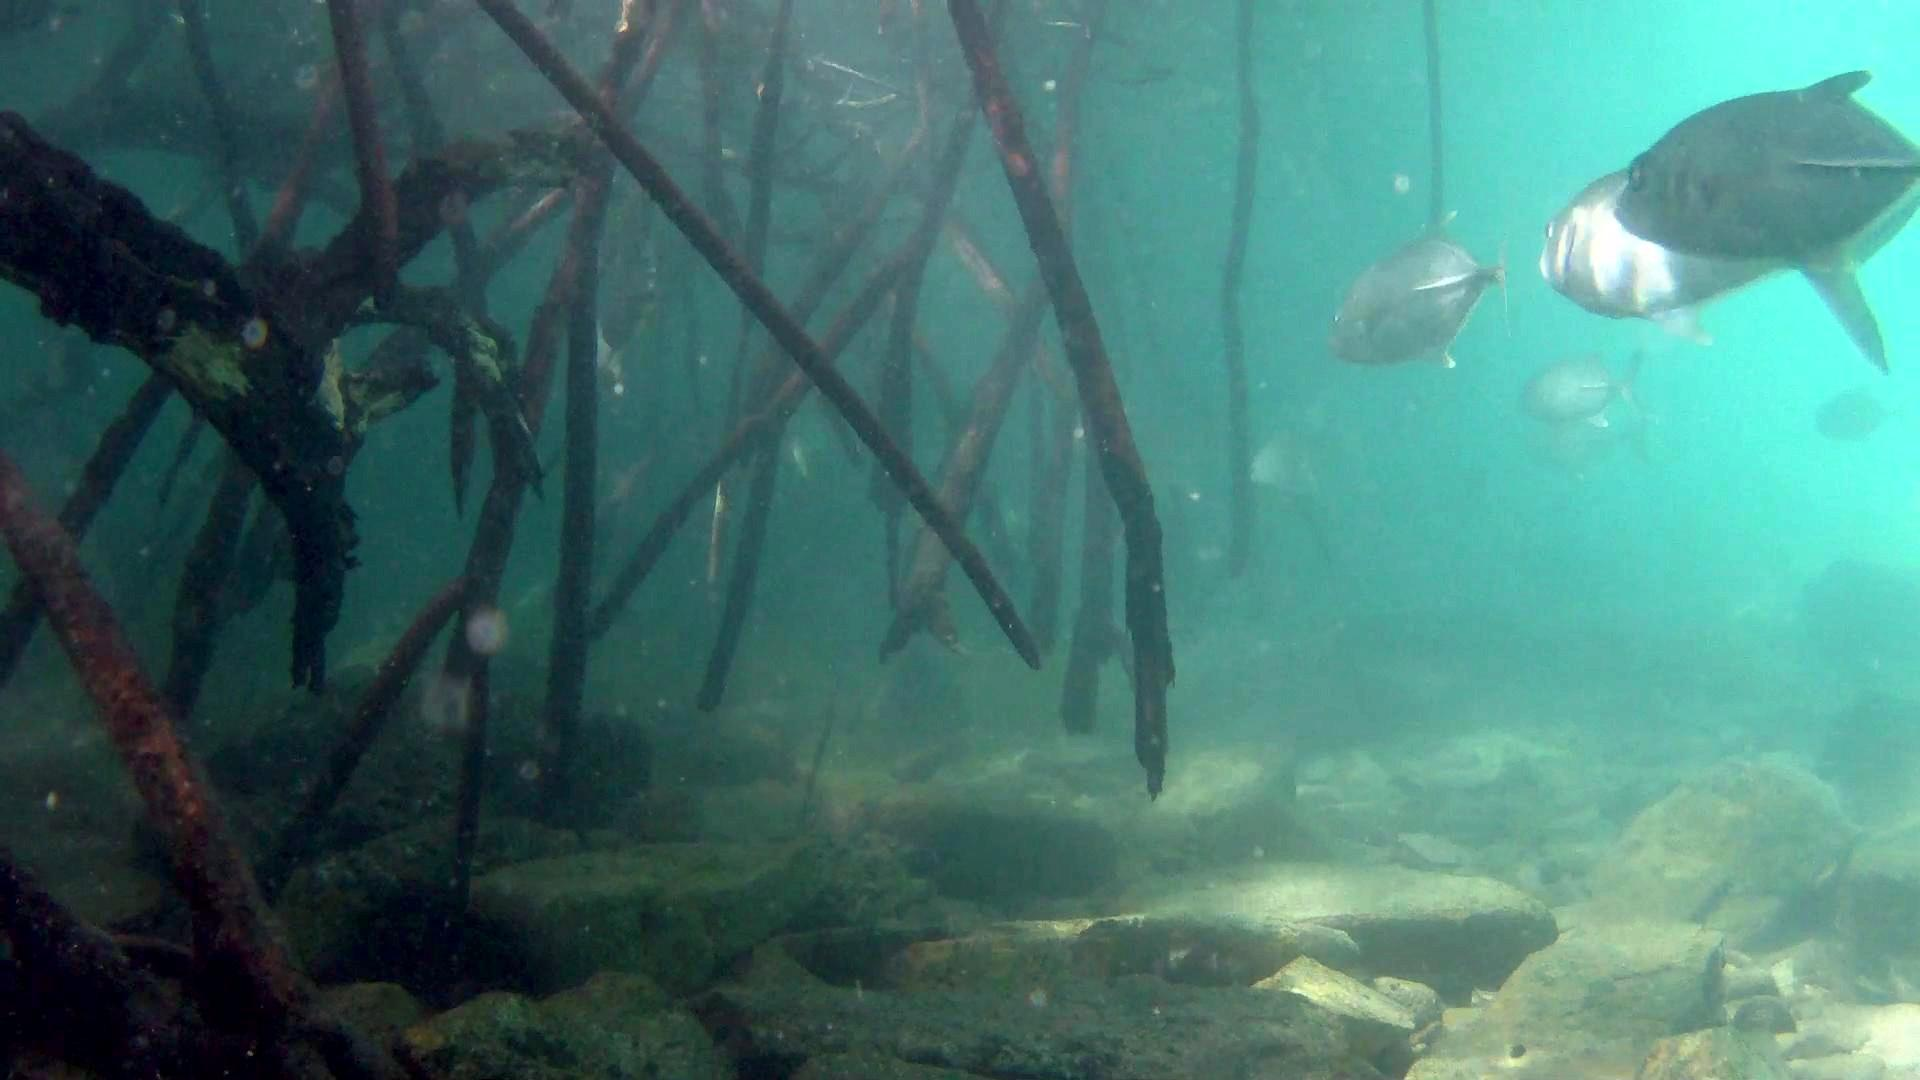caranx: (1603, 65, 1920, 273), (1315, 218, 1521, 384)
